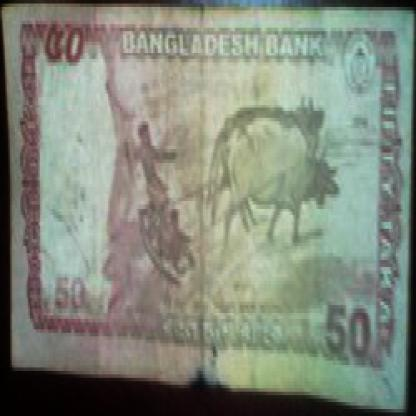Fifty taka: (37, 18, 98, 76), (318, 291, 366, 354)
